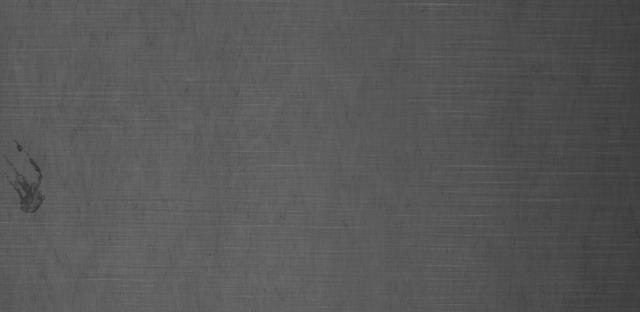water_spot: (0, 127, 52, 225)
